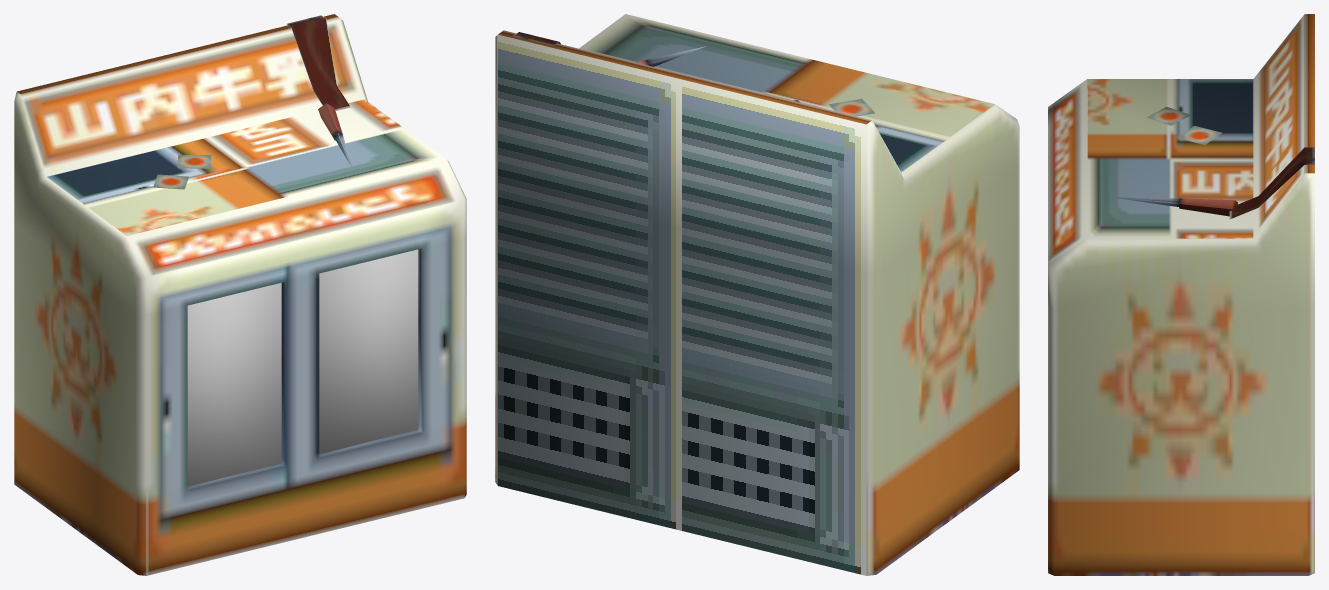
The model's file is int_oth_milkcase.dae.
3 views of the same model, side by side, from view 1: azimuth 30°, elevation 25°; view 2: azimuth 150°, elevation 25°; view 3: azimuth 270°, elevation 25° (orthographic). The views are drawn at different scales.
Visible parts, largest first — view 1: int_oth_milkcase; view 2: int_oth_milkcase; view 3: int_oth_milkcase.
Part boxes in pixels (left/top/right/bottom): int_oth_milkcase: left=14, top=14, right=466, bottom=575; int_oth_milkcase: left=495, top=14, right=1019, bottom=575; int_oth_milkcase: left=1048, top=14, right=1314, bottom=575.
Bounding box in the file's own units: 30.4 × 34.57 × 20.8.
Materials: 3 (2 with a texture image).
